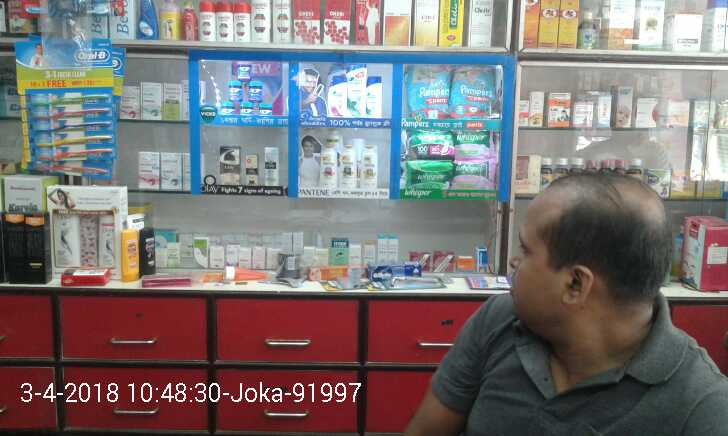oralcare: (25, 38, 122, 172)
vicks: (218, 60, 274, 117)
